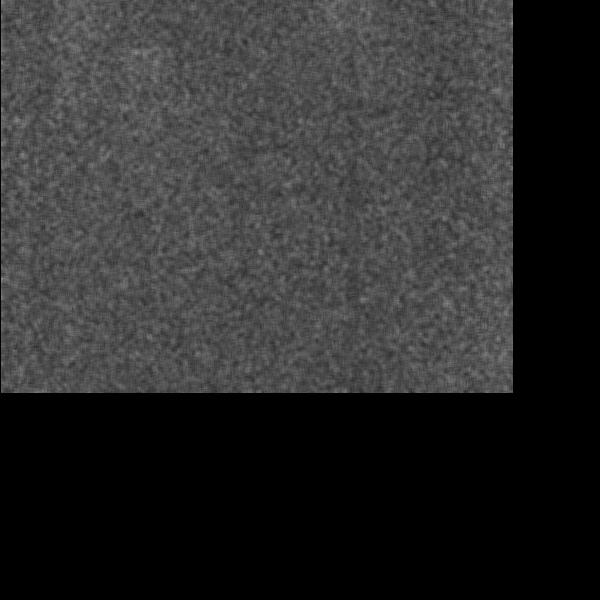spark: (284, 85, 332, 119), (393, 257, 424, 292)
